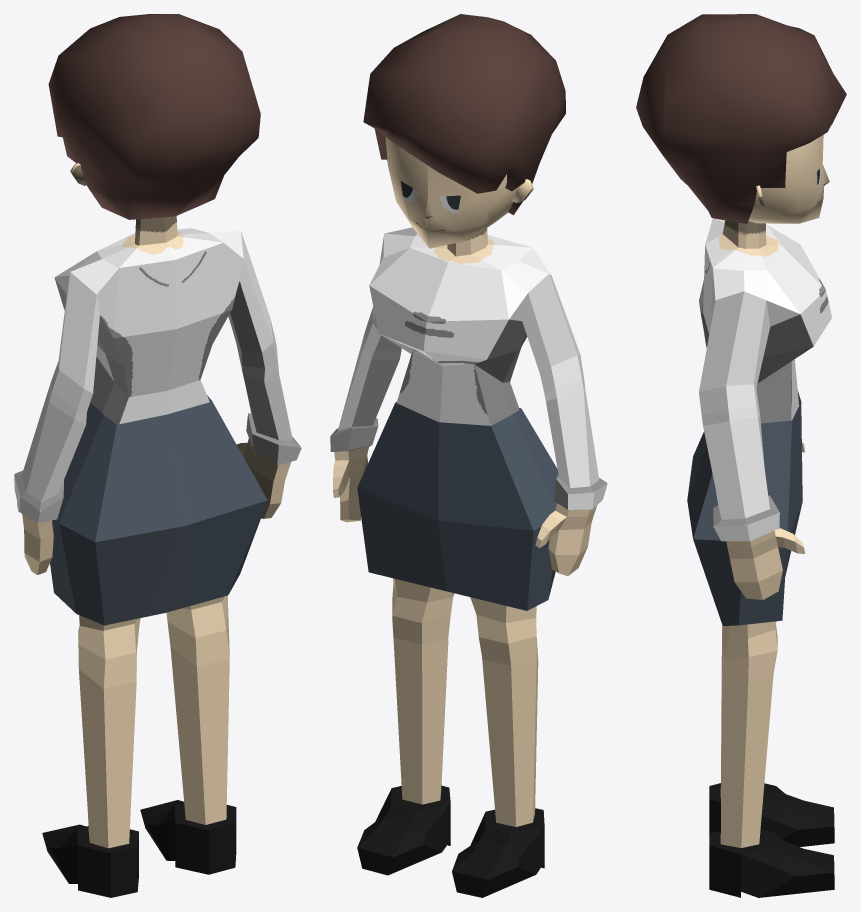
File: F SIDESWEPT.glb
The picture shows the model from 3 angles, left to right: view 1: azimuth 30°, elevation 25°; view 2: azimuth 150°, elevation 25°; view 3: azimuth 270°, elevation 25°; orthographic projection. The views are drawn at different scales.
Visible parts, largest first — view 1: WOMEN OFFICE, SIDESWEPT; view 2: WOMEN OFFICE, SIDESWEPT, WOMEN HEAD; view 3: WOMEN OFFICE, SIDESWEPT, WOMEN HEAD.
Boxes of the visible parts, x1,y1,x2,y2 form: WOMEN OFFICE: [14, 216, 301, 897]; SIDESWEPT: [48, 14, 260, 219]; WOMEN OFFICE: [330, 227, 607, 897]; SIDESWEPT: [363, 14, 565, 215]; WOMEN HEAD: [385, 137, 517, 248]; WOMEN OFFICE: [687, 218, 834, 897]; SIDESWEPT: [636, 14, 846, 223]; WOMEN HEAD: [748, 135, 829, 223].
Size of the model in its own units: 3.07 by 9.33 by 2.13.
Materials: 4 (4 with a texture image).
